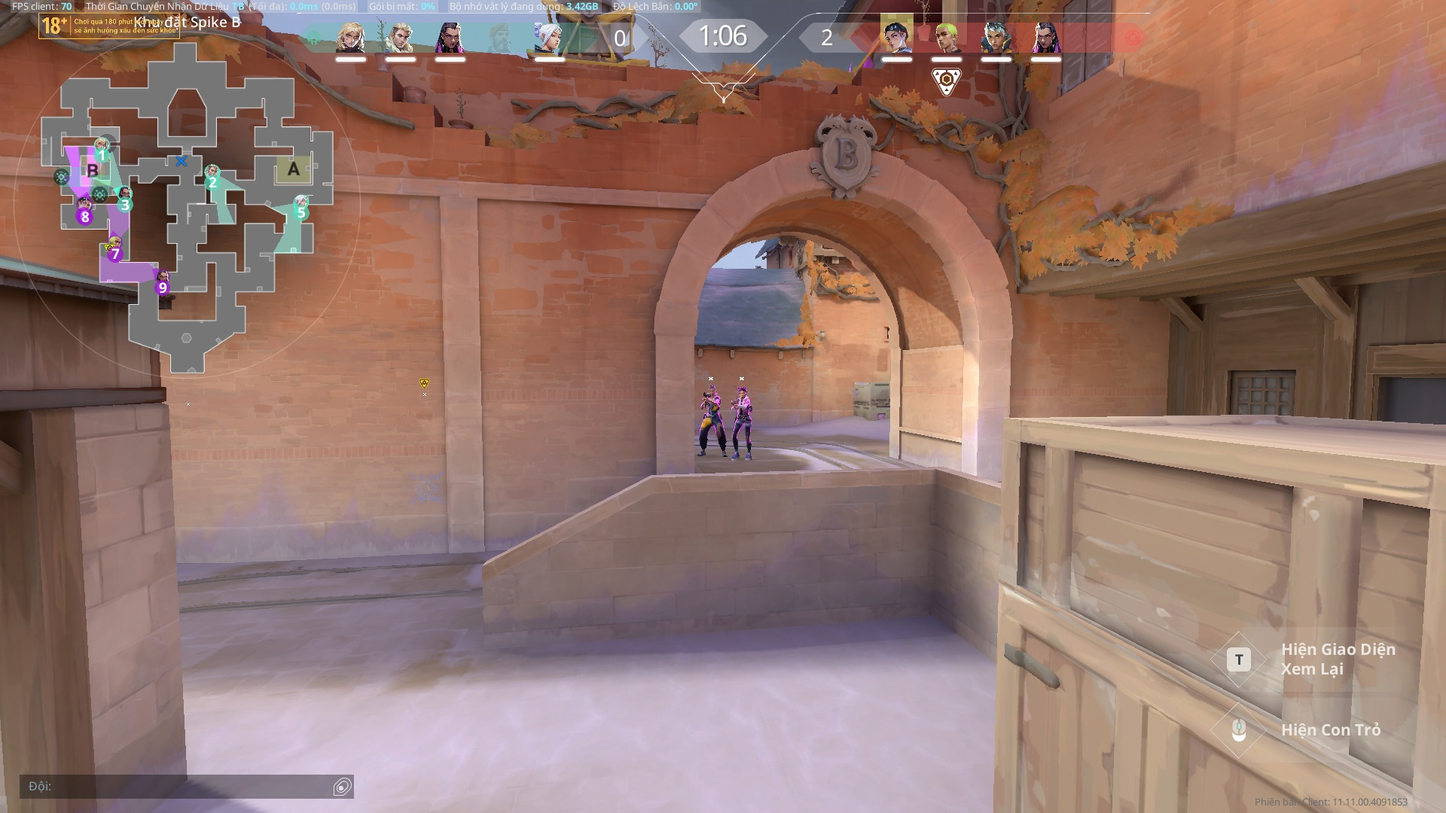body: (734, 395, 754, 419), (702, 396, 724, 417)
head: (706, 385, 716, 396), (737, 387, 746, 397)
